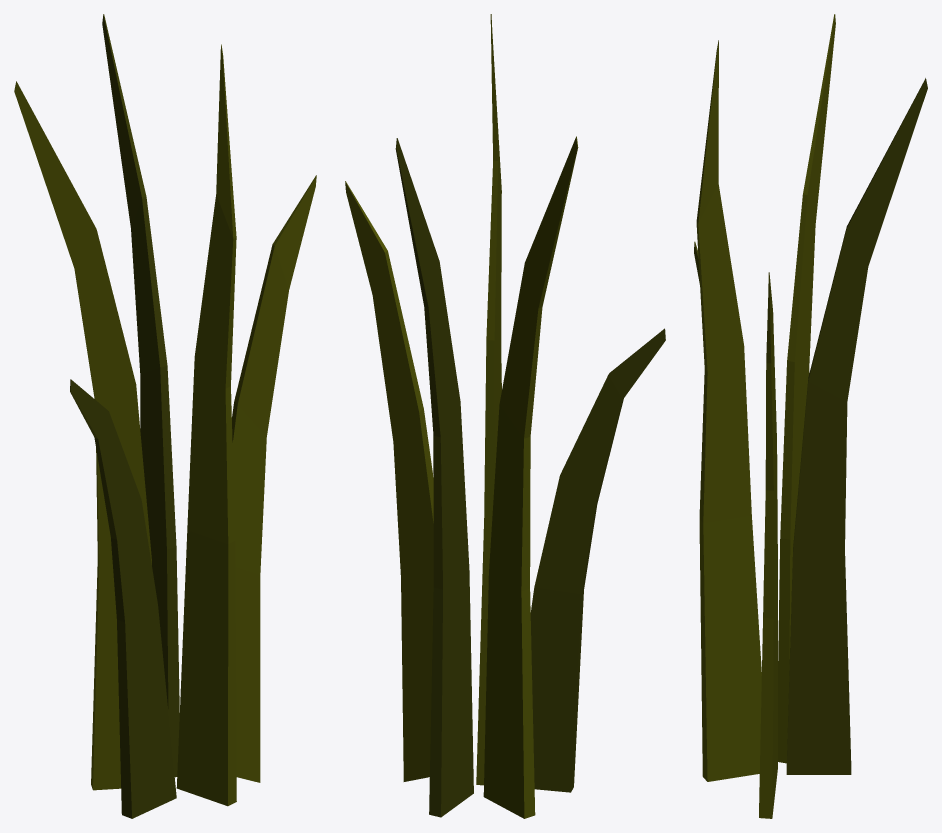
The model's file is PrairieGrass(2).fbx.
3 views of the same model, side by side, from view 1: azimuth 30°, elevation 25°; view 2: azimuth 150°, elevation 25°; view 3: azimuth 270°, elevation 25° (orthographic). The views are drawn at different scales.
Visible parts, largest first — view 1: PrairieGrass(2); view 2: PrairieGrass(2); view 3: PrairieGrass(2).
Part boxes in pixels (box(x1,y1,x2,y2)): PrairieGrass(2): box(14, 14, 316, 818); PrairieGrass(2): box(345, 14, 665, 818); PrairieGrass(2): box(694, 14, 927, 818).
Size of the model in its own units: 0.6285 by 1.62 by 0.4582.
